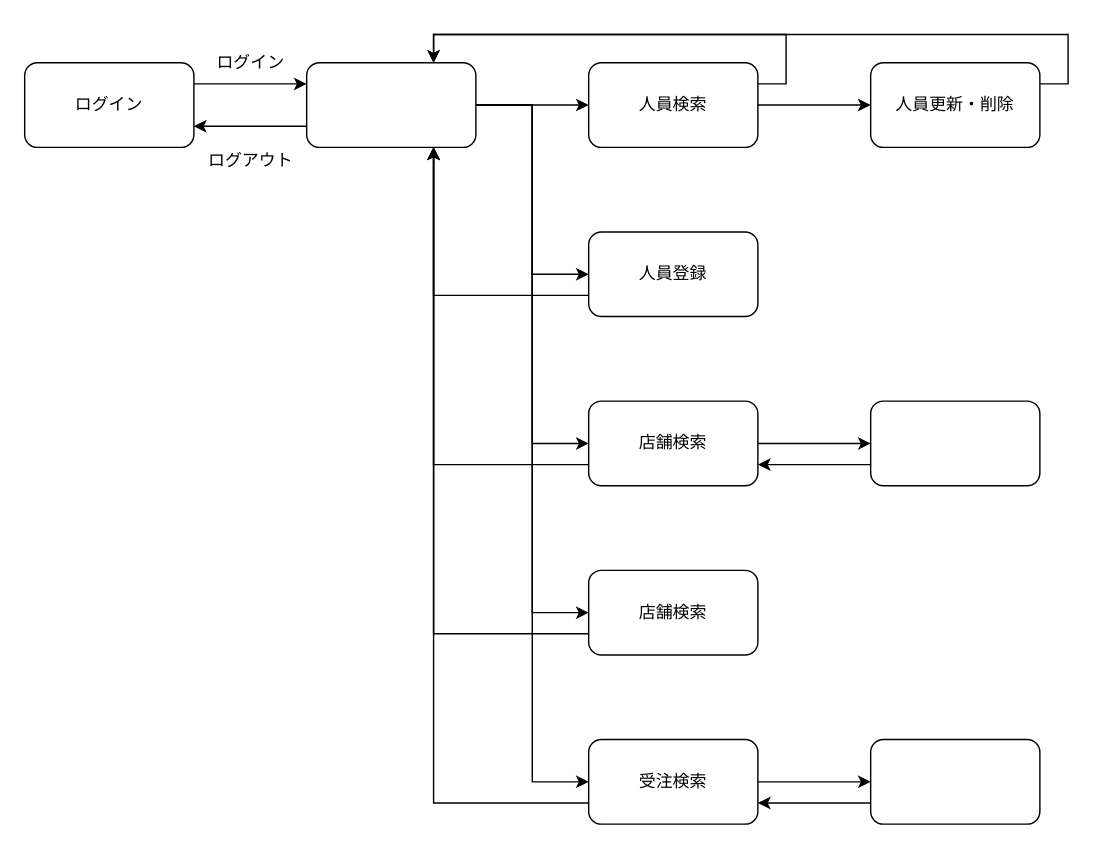
Some shapes in this 1104 by 849 pixel diagram are drawn without their labels. The shapes that lost their labels are listed below. From the top down, each one's centre as x and y in pixels, then its label:
(x=390, y=104): トップ
(x=954, y=443): 店舗更新・削除
(x=954, y=781): 受注一覧
